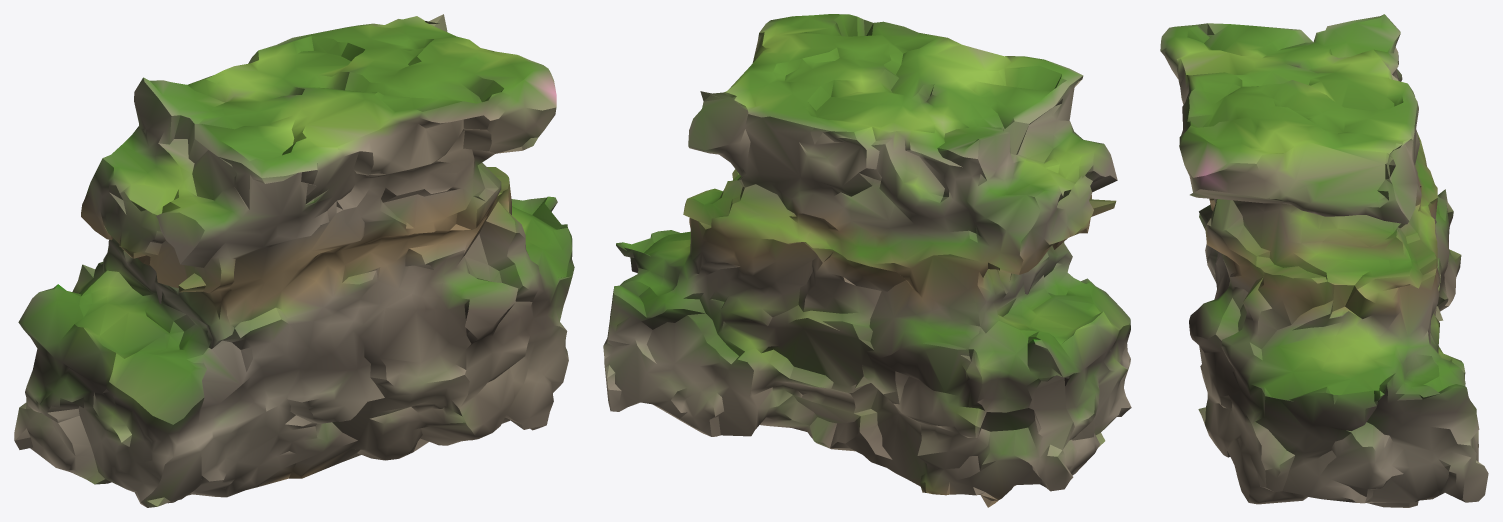
The model's file is glade_cliff_wall_b.glb.
The picture shows the model from 3 angles, left to right: view 1: azimuth 30°, elevation 25°; view 2: azimuth 150°, elevation 25°; view 3: azimuth 270°, elevation 25°; orthographic projection. The views are drawn at different scales.
Parts seen in each view (by area): view 1: glade_cliff_wall_b; view 2: glade_cliff_wall_b; view 3: glade_cliff_wall_b.
Part boxes in pixels (box(x1,y1,x2,y2)): glade_cliff_wall_b: box(14, 14, 574, 507); glade_cliff_wall_b: box(603, 14, 1131, 507); glade_cliff_wall_b: box(1160, 14, 1488, 507).
Bounding box in the file's own units: 17.35 × 12.44 × 10.21.
